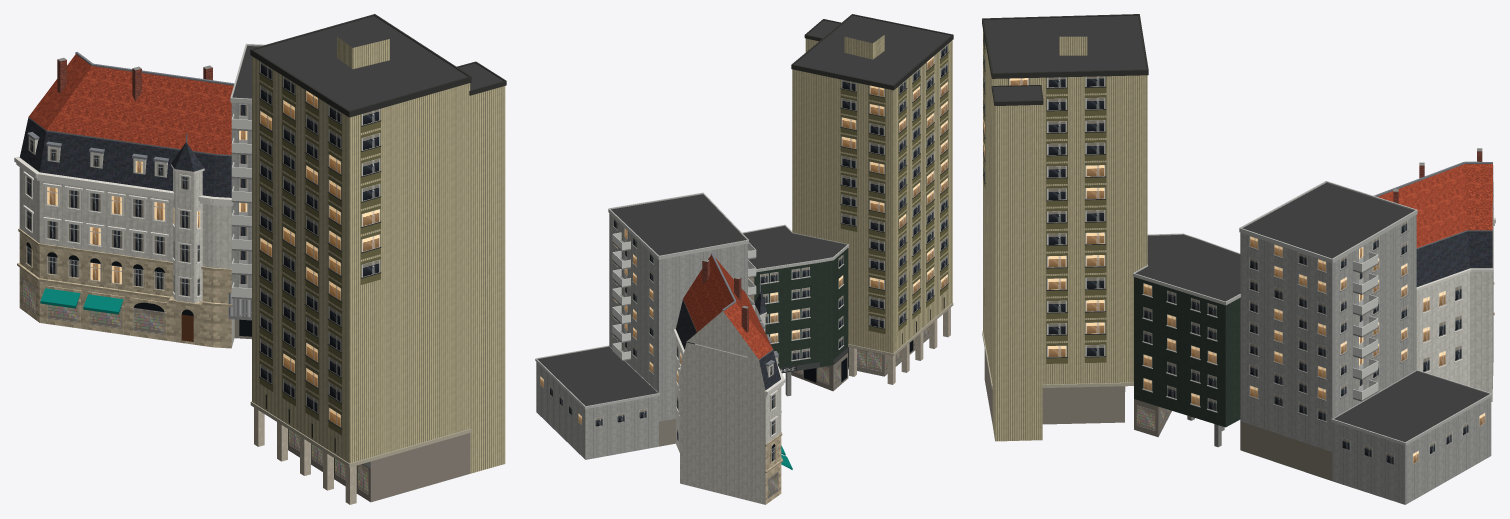
Rendered from model_neusser-florastrasse.glb.
The picture shows the model from 3 angles, left to right: view 1: azimuth 30°, elevation 25°; view 2: azimuth 150°, elevation 25°; view 3: azimuth 270°, elevation 25°; orthographic projection. The views are drawn at different scales.
Visible parts, largest first — view 1: neusser-florastrasse; view 2: neusser-florastrasse; view 3: neusser-florastrasse.
Part boxes in pixels (left/top/right/bottom): neusser-florastrasse: left=14, top=14, right=506, bottom=504; neusser-florastrasse: left=535, top=14, right=953, bottom=504; neusser-florastrasse: left=982, top=14, right=1495, bottom=504.
Bounding box in the file's own units: 42.27 × 46.9 × 58.96.
33 materials, 20 textured.
